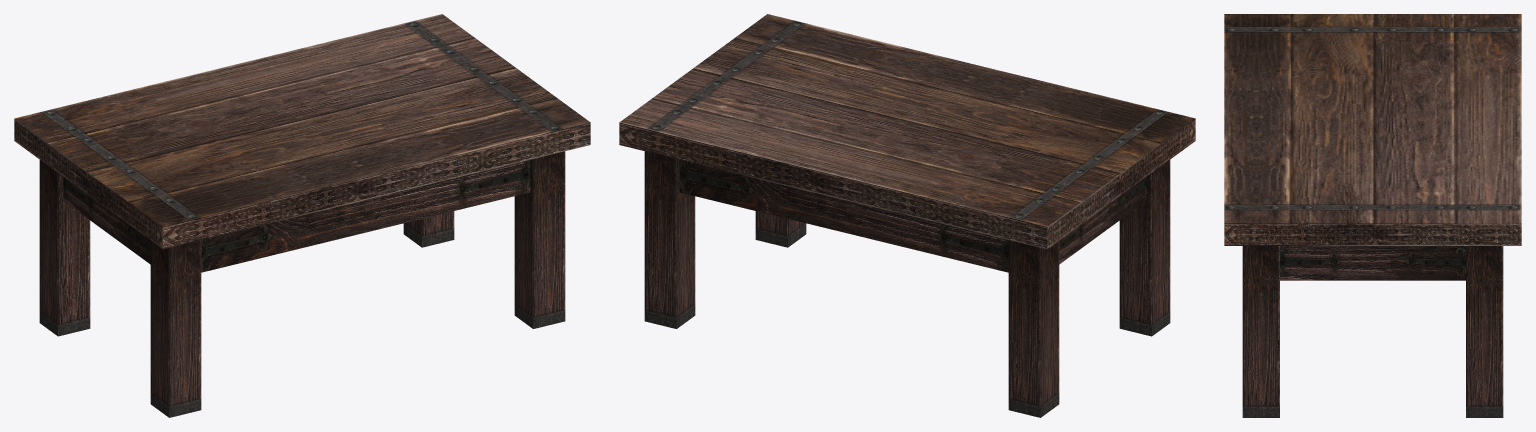
The model's file is axe.glb.
The picture shows the model from 3 angles, left to right: view 1: azimuth 30°, elevation 25°; view 2: azimuth 150°, elevation 25°; view 3: azimuth 270°, elevation 25°; orthographic projection.
Parts seen in each view (by area): view 1: zengin; view 2: zengin; view 3: zengin.
Part boxes in pixels (bbox=[...]): zengin: bbox=[14, 14, 590, 417]; zengin: bbox=[619, 14, 1195, 417]; zengin: bbox=[1224, 14, 1521, 417].
Size of the model in its own units: 2 by 0.9 by 1.2.
Materials: 1 (1 with a texture image).
